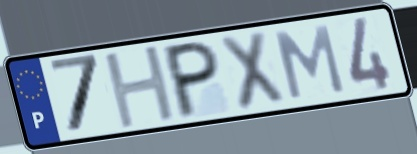4: (346, 13, 395, 94)
7: (46, 52, 104, 138)
H: (101, 42, 180, 132)
M: (272, 22, 348, 102)
P: (164, 38, 221, 123)
X: (216, 28, 289, 114)
